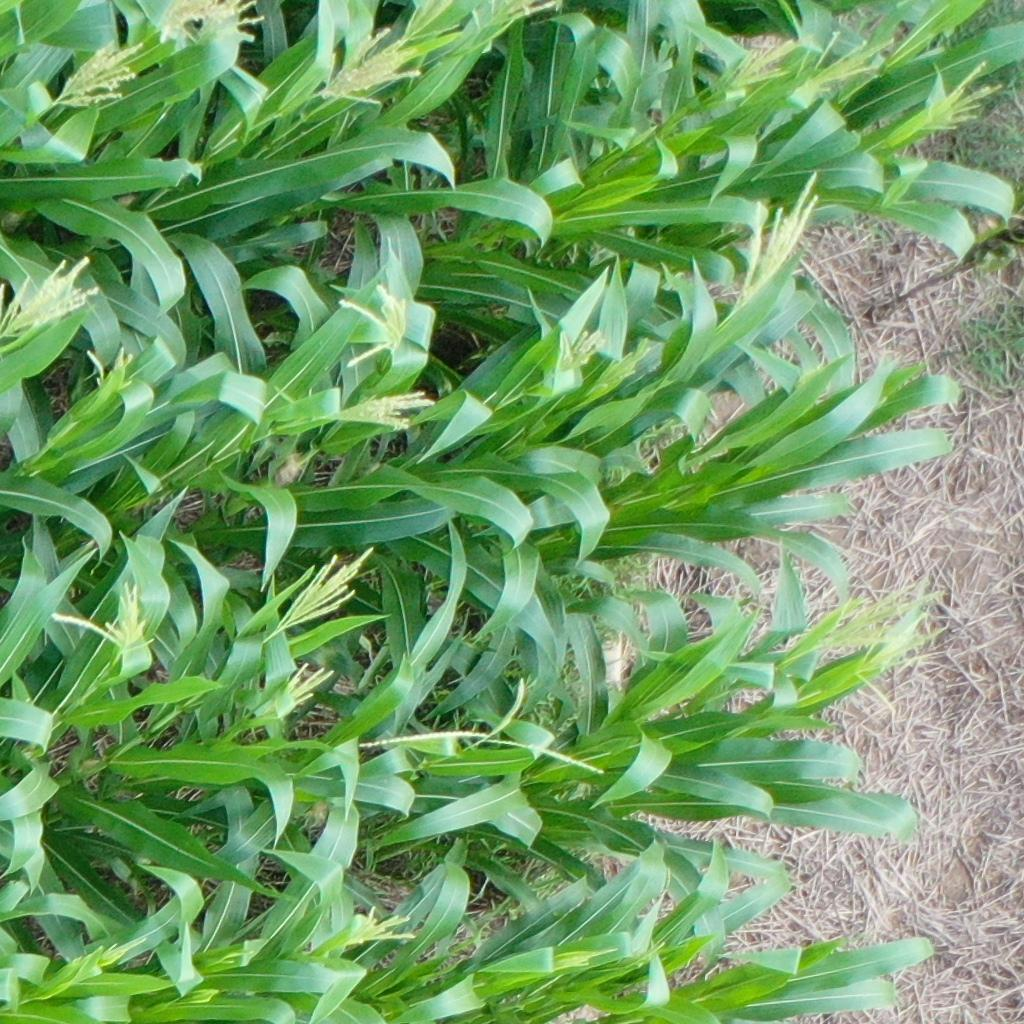Tassel: (355, 672, 610, 791), (732, 167, 828, 311), (858, 610, 967, 723), (268, 542, 374, 638), (45, 577, 157, 662), (814, 577, 942, 649), (319, 28, 422, 116), (1, 256, 105, 343), (333, 282, 417, 368), (56, 34, 146, 113), (325, 385, 443, 440), (928, 56, 1006, 139), (804, 30, 891, 96), (157, 1, 263, 51), (720, 35, 799, 92), (258, 662, 334, 719), (339, 901, 420, 949), (600, 339, 654, 396), (81, 340, 134, 397), (475, 1, 562, 33), (398, 1, 462, 43), (551, 941, 621, 977), (558, 327, 608, 372), (98, 933, 151, 967)
